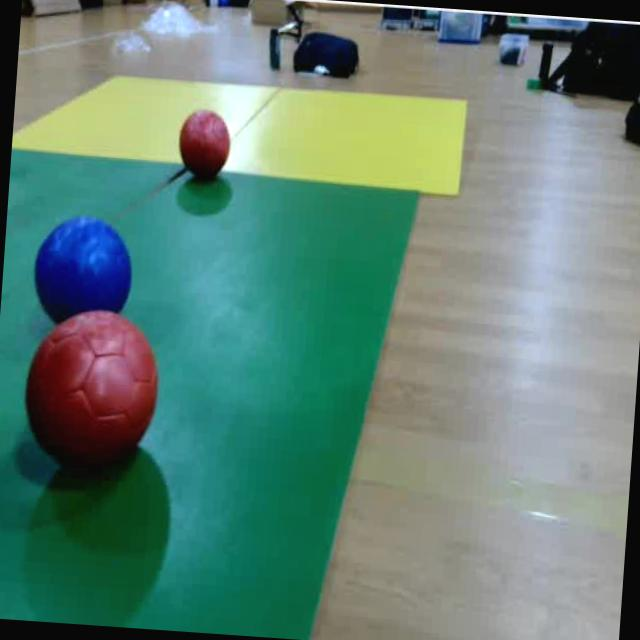blue_ball: (28, 208, 142, 336)
red_ball: (20, 304, 167, 482), (174, 106, 233, 184)
